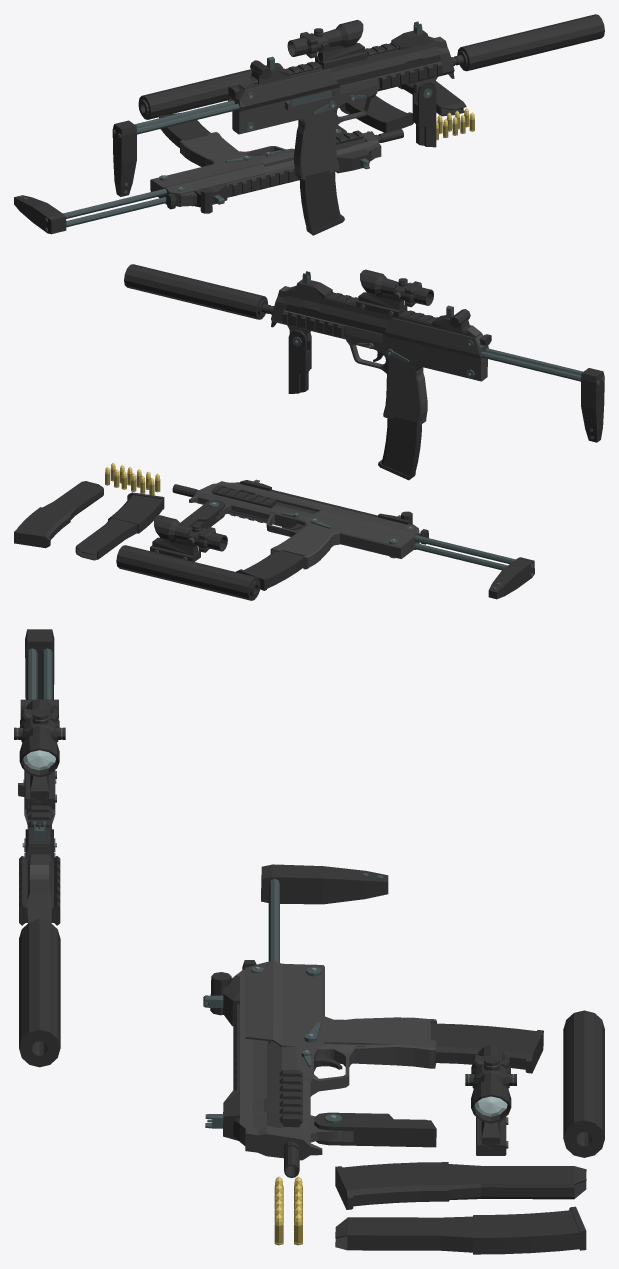
3 views of the same model, one above another, from view 1: azimuth 30°, elevation 25°; view 2: azimuth 150°, elevation 25°; view 3: azimuth 270°, elevation 25° (orthographic). The views are drawn at different scales.
Visible parts, largest first — view 1: Box001, Box013, Tube001, Box003, Box015, Tube002, Cylinder001, Box006, Box022, Box002, Box019, Box009 (+3 smaller); view 2: Box001, Box013, Tube002, Tube001, Box022, Box023, Box003, Box015, Cylinder001, Cylinder011, Box006, Box018 (+4 smaller); view 3: Box013, Box023, Box022, Tube002, Tube001, Box015, Cylinder011, Cylinder001, Box018, Box001, Box014, Box003 (+2 smaller).
Boxes of the visible parts, x1,y1,x2,y2 form: Box001: [231, 36, 463, 179]; Box013: [150, 129, 403, 206]; Tube001: [457, 14, 604, 71]; Box003: [112, 100, 239, 196]; Box015: [14, 188, 166, 234]; Tube002: [138, 63, 283, 119]; Cylinder001: [287, 20, 367, 69]; Box006: [299, 170, 344, 235]; Box022: [345, 95, 414, 132]; Box002: [412, 81, 436, 147]; Box019: [194, 149, 369, 213]; Box009: [250, 30, 429, 84]; Box001: [261, 286, 488, 425]; Box013: [172, 481, 419, 569]; Tube002: [116, 545, 260, 600]; Tube001: [124, 264, 267, 319]; Box022: [75, 492, 164, 560]; Box023: [14, 481, 103, 548]; Box003: [480, 348, 604, 442]; Box015: [414, 535, 534, 599]; Cylinder001: [356, 269, 433, 317]; Cylinder011: [150, 515, 227, 561]; Box006: [378, 417, 421, 480]; Box018: [236, 551, 303, 590]; Box013: [233, 960, 436, 1177]; Box023: [335, 1206, 586, 1254]; Box022: [335, 1162, 586, 1209]; Tube002: [563, 1010, 604, 1157]; Tube001: [19, 920, 60, 1067]; Box015: [261, 864, 388, 1045]; Cylinder011: [465, 1045, 516, 1155]; Cylinder001: [14, 698, 65, 809]; Box018: [430, 1023, 543, 1073]; Box001: [18, 770, 60, 925]; Box014: [314, 1112, 436, 1147]; Box003: [25, 629, 54, 816].
Size of the model in its own units: 236 by 97.59 by 150.
Materials: 10 (9 with a texture image).
